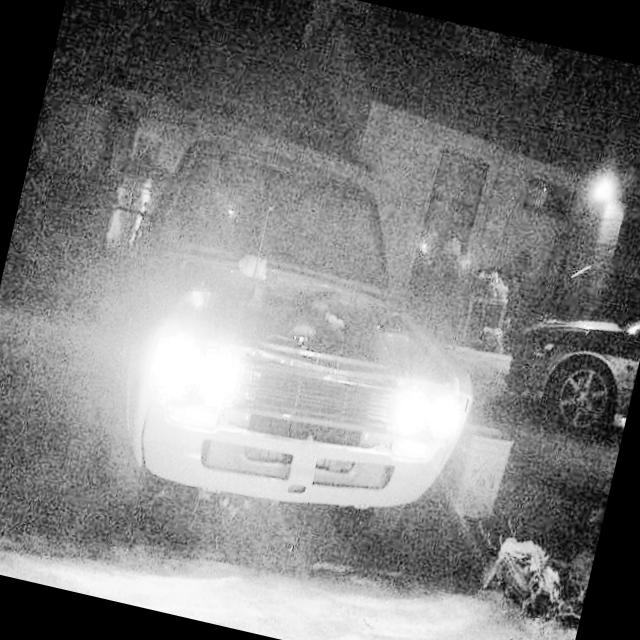Car: (45, 106, 529, 600), (479, 258, 640, 491)
